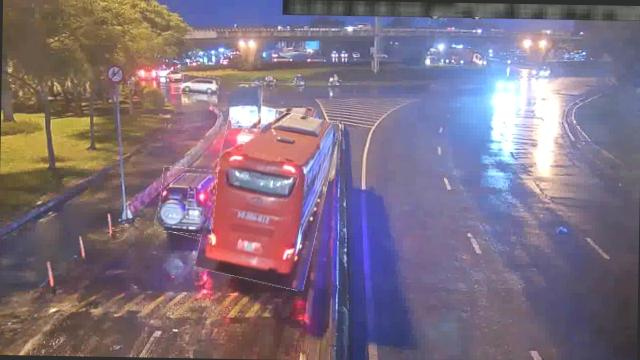Bus: (202, 103, 333, 286), (158, 167, 216, 234)
Car: (157, 170, 218, 238), (181, 74, 218, 96)
Truck: (229, 82, 262, 129)
